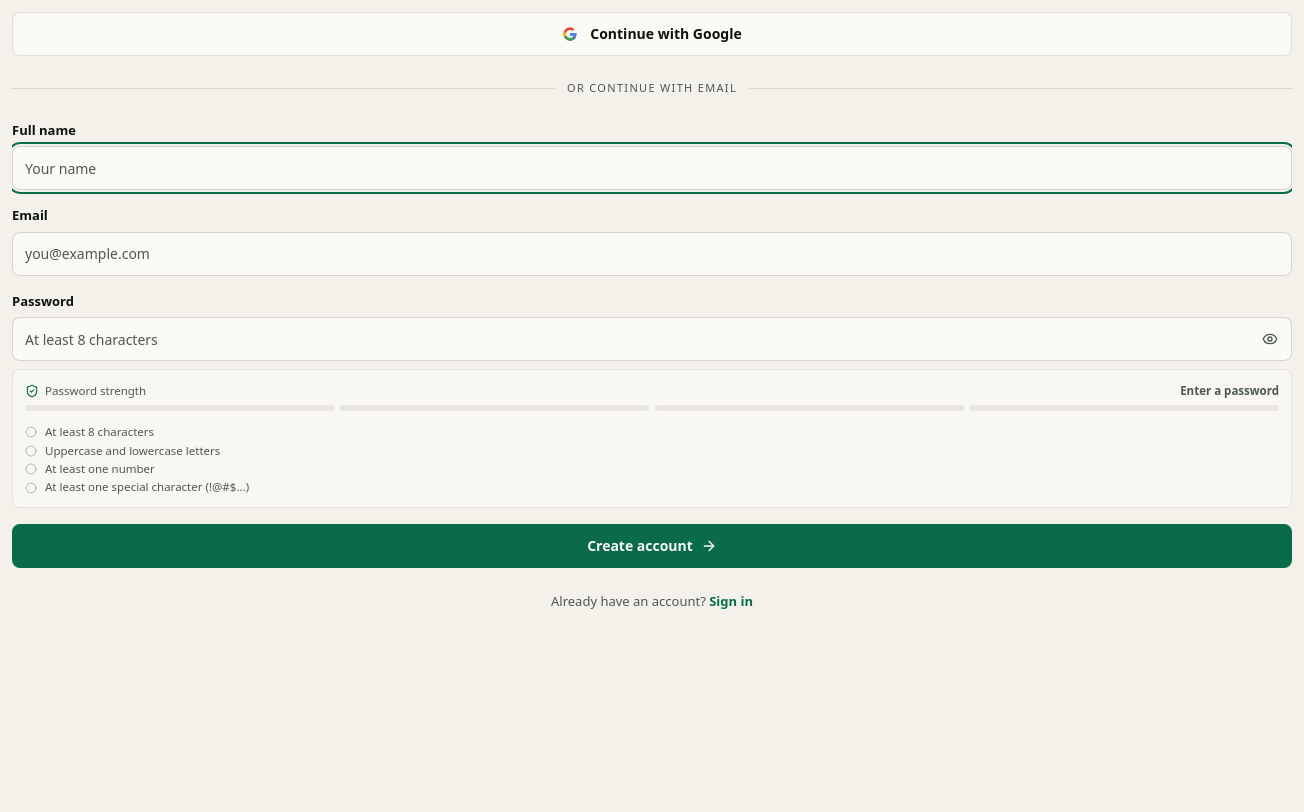
Test: AuthForm Component (covers: Hardening Zod Password & Email UI) › updates password strength indicator dynamically as user types
This screenshot has width=1304, height=812.
// Type weak password
Type "short" into the password field labelled "Password" at (652, 339), box [12,317,1292,361]
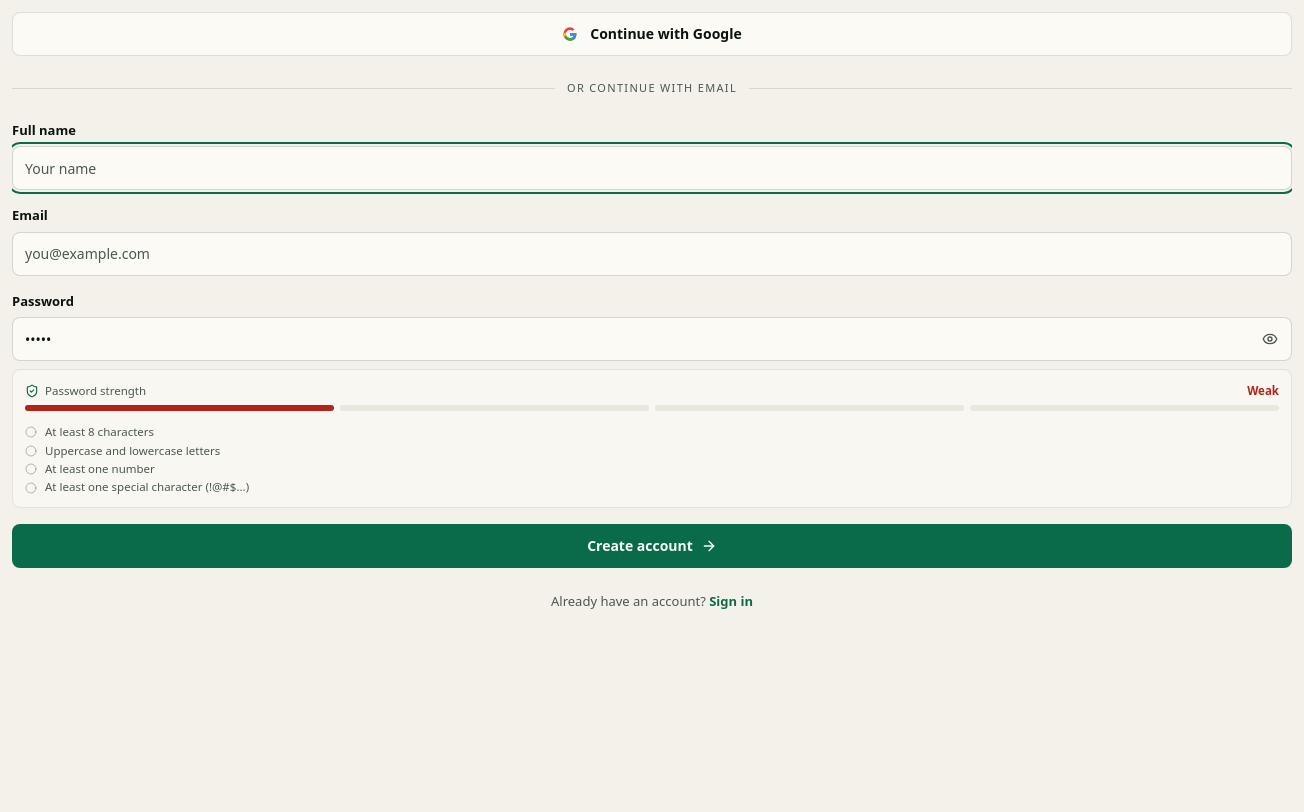
Check: the text "Weak" is shown, box [1247,382,1279,399]
Type "lowercase123" into the password field labelled "Password" at (652, 339), box [12,317,1292,361]
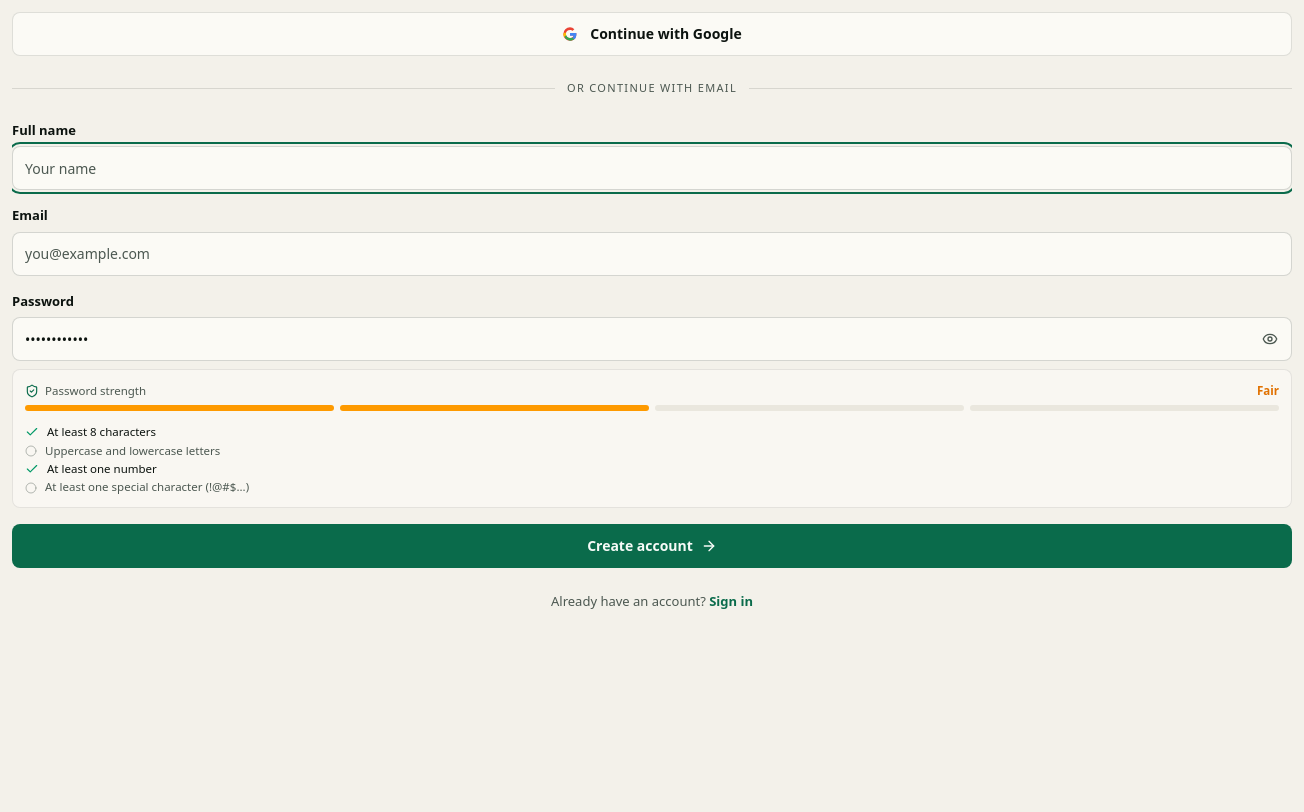
Check: the text "Fair" is shown, box [1257,382,1279,399]
Type "V3ry$ecureP@ssword" into the password field labelled "Password" at (652, 339), box [12,317,1292,361]
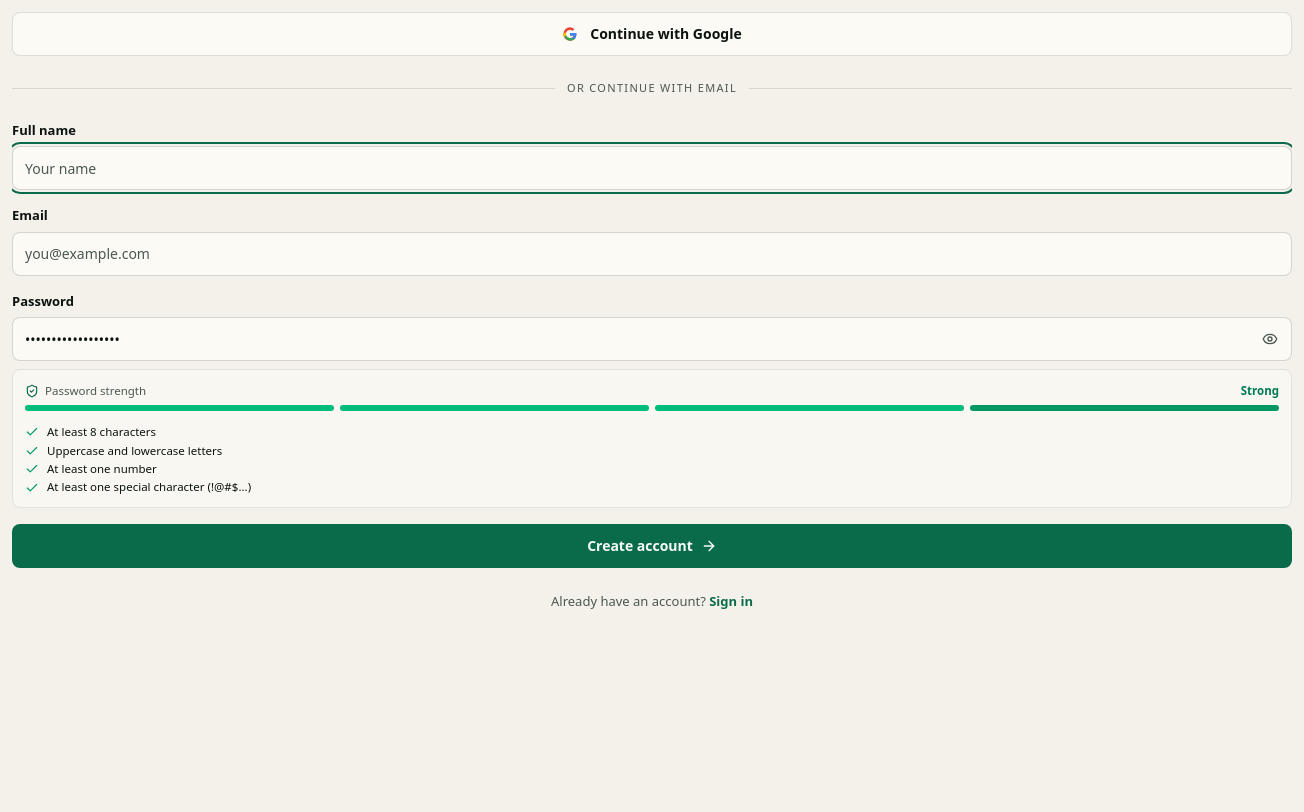
Check: the text "Strong" is shown, box [1241,382,1279,399]
